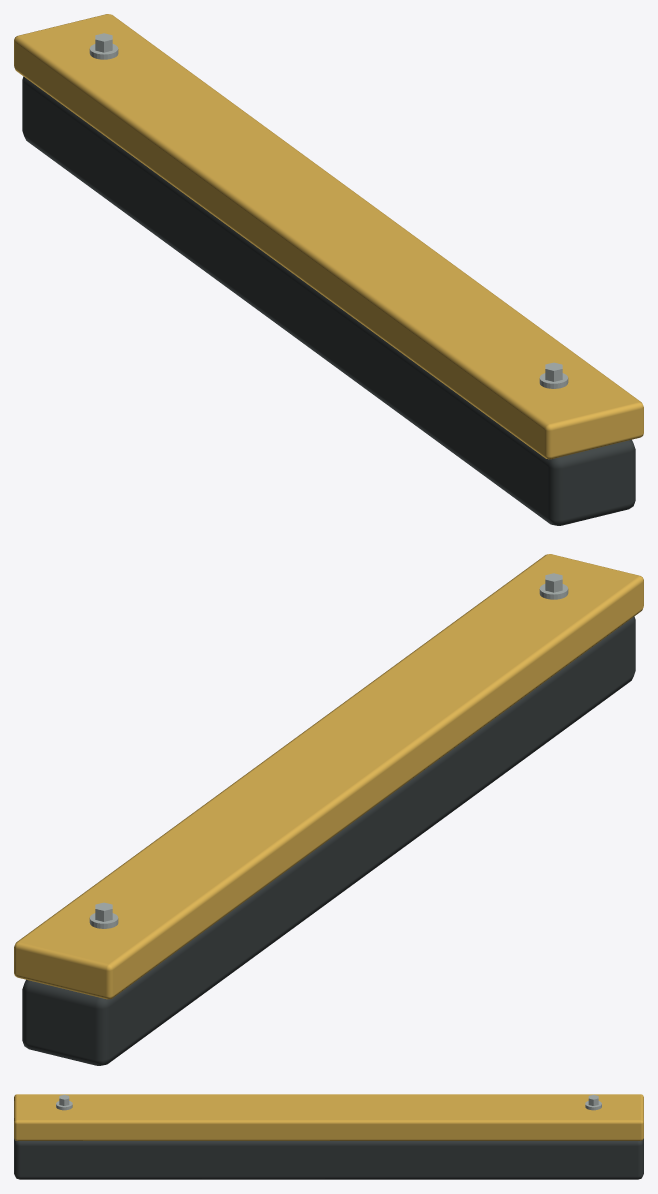
File: automated-parking-and-vehicle-retrieval-automated-park-fca07221__30346.glb
3 views of the same model, one above another, from view 1: azimuth 30°, elevation 25°; view 2: azimuth 150°, elevation 25°; view 3: azimuth 270°, elevation 25° (orthographic). The views are drawn at different scales.
Parts seen in each view (by area): view 1: automated-parking-and-vehicle-retrieval-wheel-alignment-curb (×3); view 2: automated-parking-and-vehicle-retrieval-wheel-alignment-curb (×3); view 3: automated-parking-and-vehicle-retrieval-wheel-alignment-curb (×3).
Part boxes in pixels (x1,y1,x2,y2): automated-parking-and-vehicle-retrieval-wheel-alignment-curb (×3): [14, 14, 643, 525]; automated-parking-and-vehicle-retrieval-wheel-alignment-curb (×3): [14, 554, 643, 1065]; automated-parking-and-vehicle-retrieval-wheel-alignment-curb (×3): [14, 1094, 643, 1179].
Bounding box in the file's own units: 0.16 × 0.1911 × 1.5.
